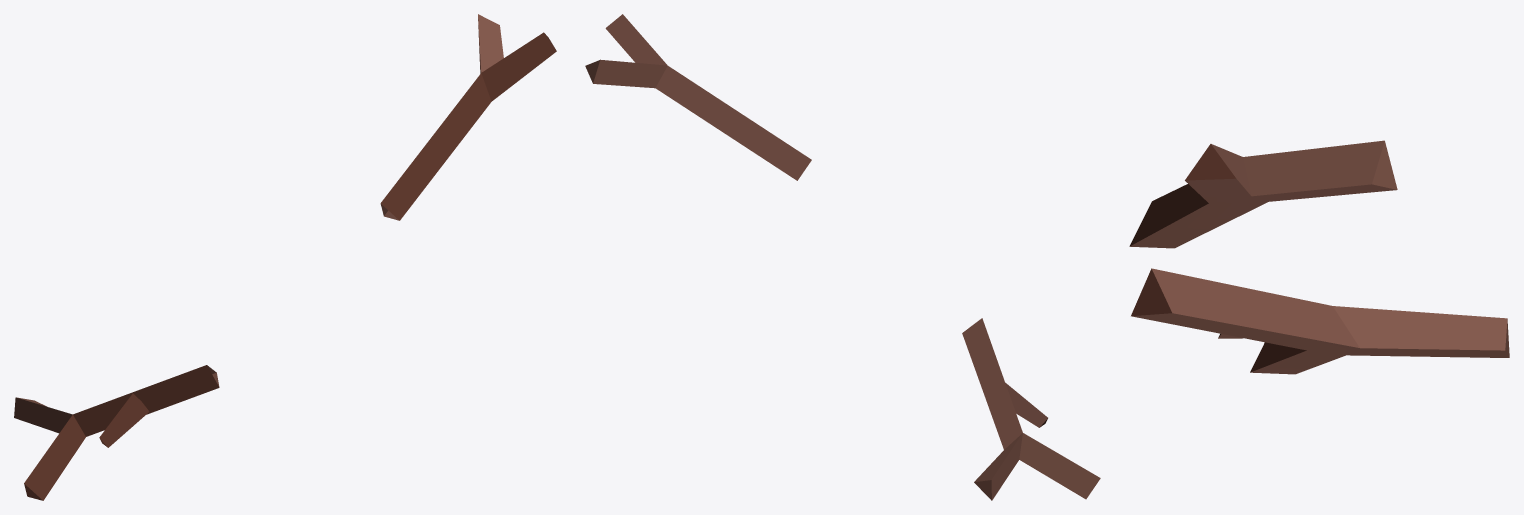
Rendered from IglooSnowmanArms.fbx.
3 renders of one model, left to right at view 1: azimuth 30°, elevation 25°; view 2: azimuth 150°, elevation 25°; view 3: azimuth 270°, elevation 25°, orthographic. The views are drawn at different scales.
Visible parts, largest first — view 1: IglooSnowmanArms; view 2: IglooSnowmanArms; view 3: IglooSnowmanArms.
Part boxes in pixels (box(x1,y1,x2,y2)): IglooSnowmanArms: box(14, 14, 556, 500); IglooSnowmanArms: box(585, 14, 1100, 500); IglooSnowmanArms: box(1129, 140, 1509, 374).
Size of the model in its own units: 66.36 by 44.24 by 21.68.
